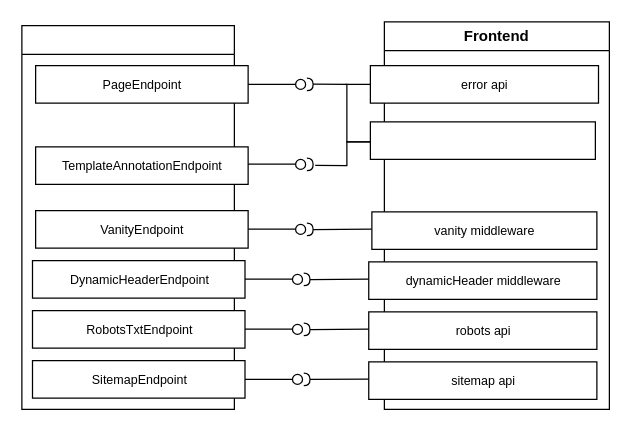
This 631x431 diagram has some shape labels left out. Each missing label, with the box of its shape:
Backend: (21, 24, 234, 409)
DynamicPage: (369, 121, 595, 159)
